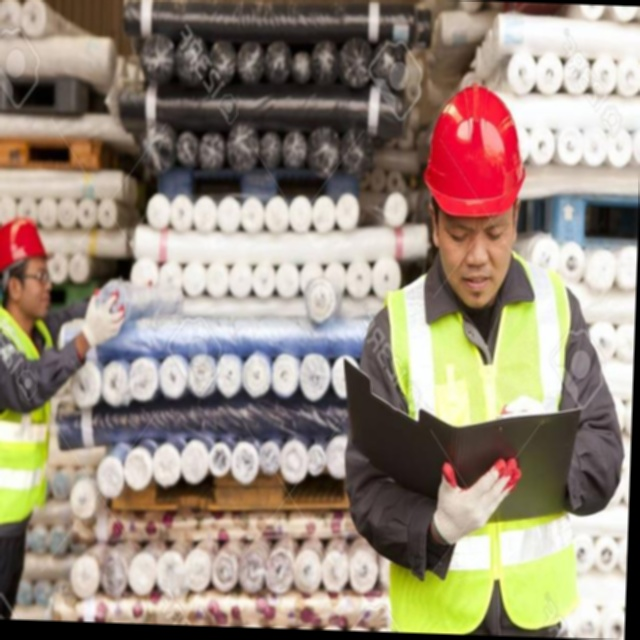Con_Chaleco: (374, 267, 578, 638), (0, 319, 56, 532)
